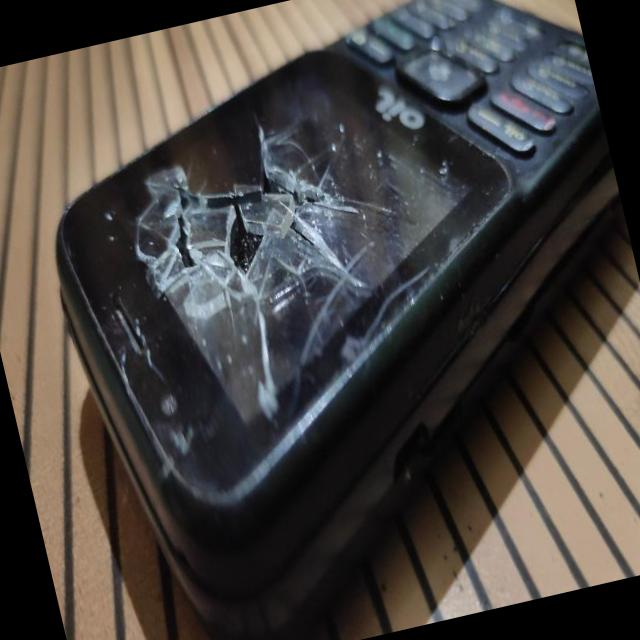screen crack: (44, 27, 453, 506)
